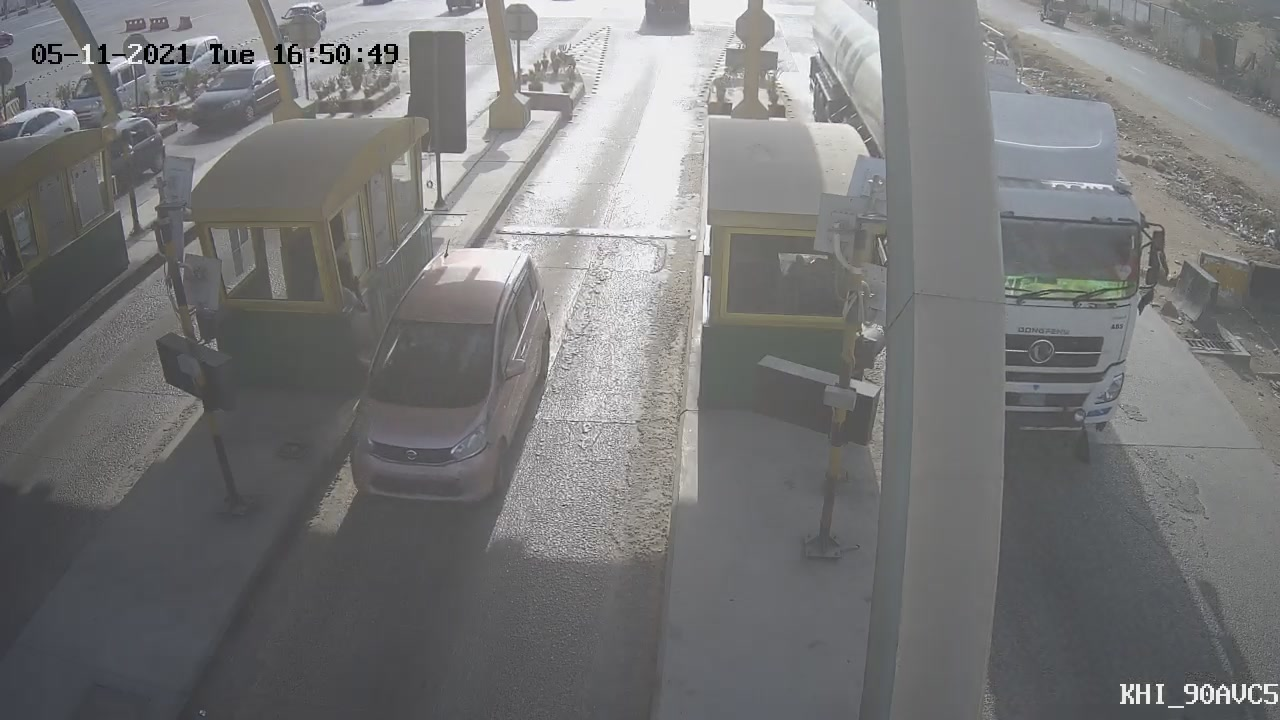F1: (331, 224, 578, 533)
